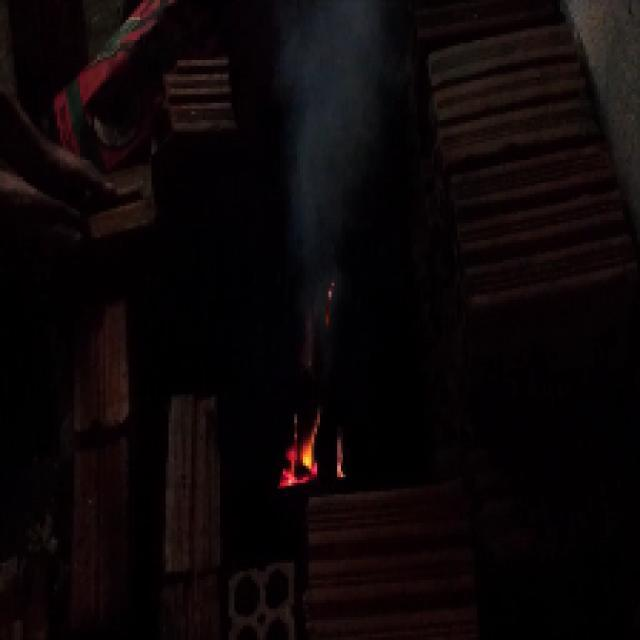Fire: (278, 414, 348, 480)
Smoke: (288, 11, 363, 237)
